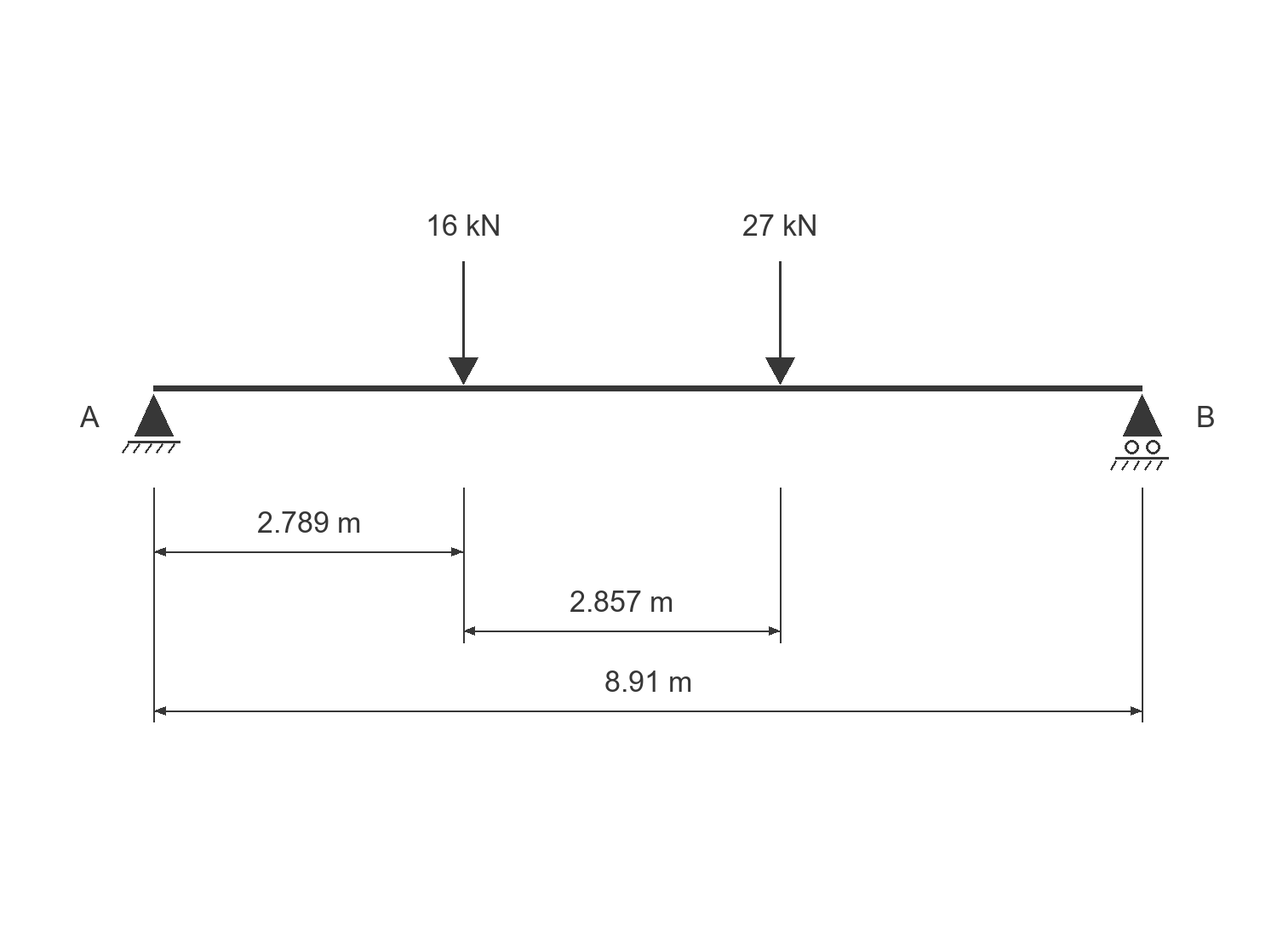pin_support: (122, 394, 180, 454)
point_load: (765, 261, 795, 385), (449, 261, 478, 385)
roller_support: (1110, 394, 1169, 471)
